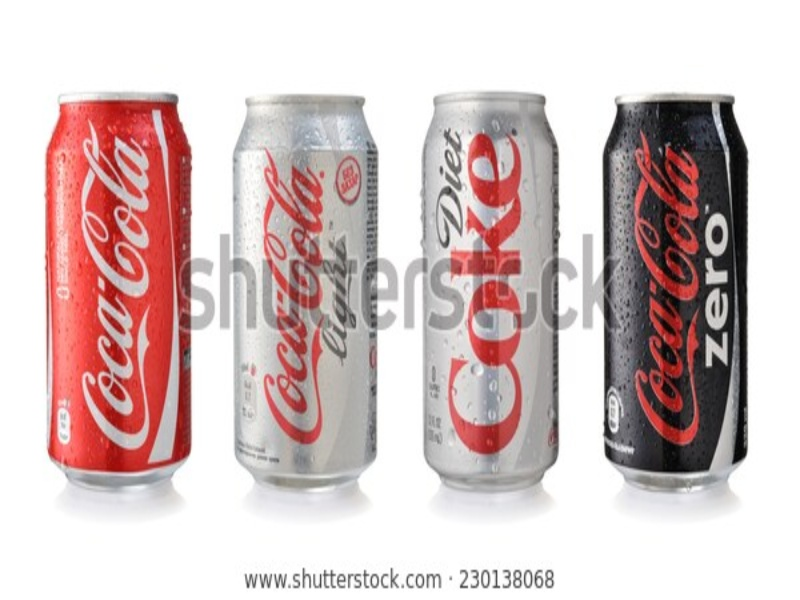coke-can: (32, 84, 204, 504)
coke-can-diet: (219, 87, 392, 503), (421, 89, 566, 500)
coke-can-zero: (607, 83, 764, 496)
